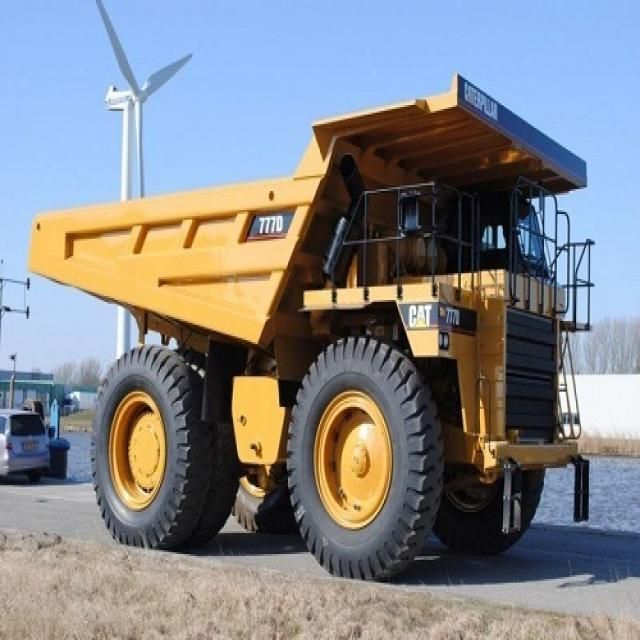dump_truck: (69, 81, 596, 579)
light_vehicle: (0, 403, 56, 490)
